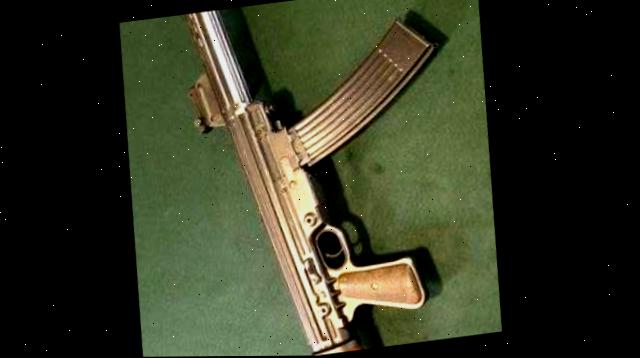rifle: (105, 0, 519, 357)
